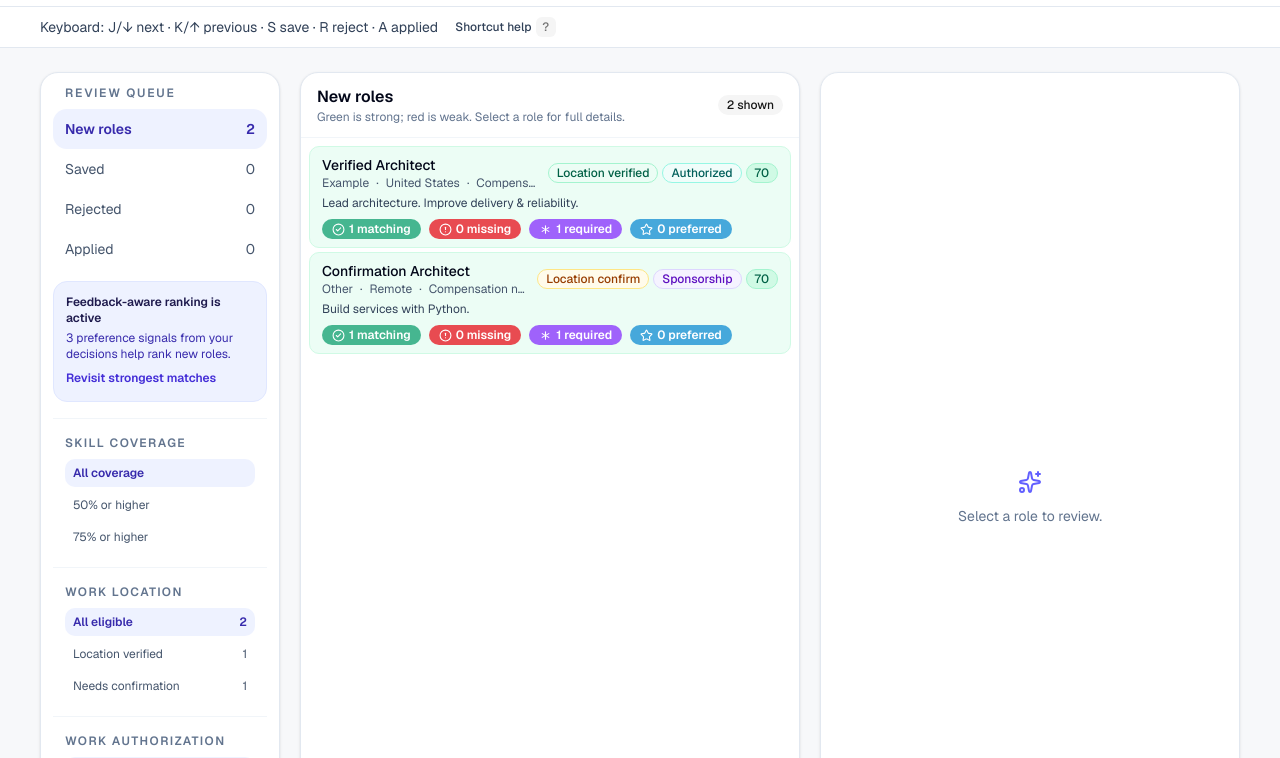
Test: review queue interactions › keeps decision-note drafts with their role and returns to feedback-ranked matches
Click the button "Verified Architect" at [550, 197], box [309,146,791,248]
(page scrolled)
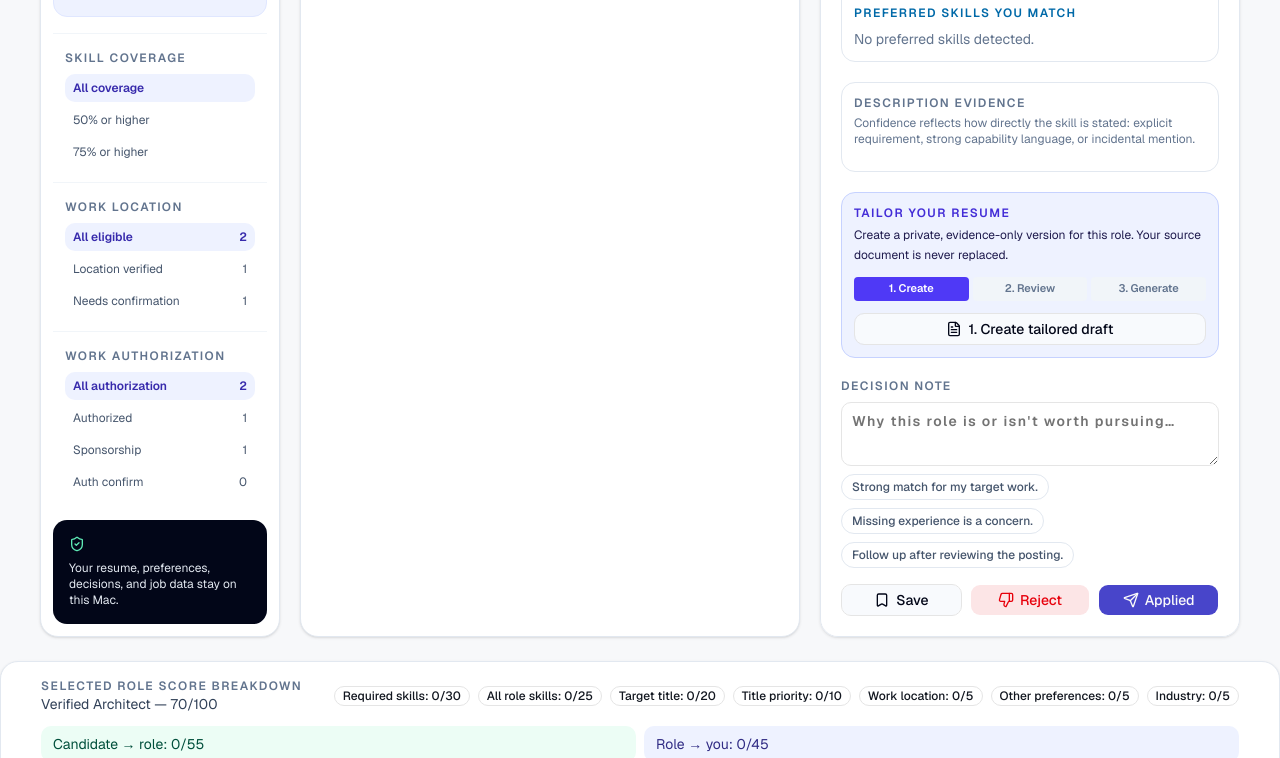
Type "Excellent platform fit." into the text box labelled "Decision note" at [1030, 434], box [841,402,1219,466]
(page scrolled)
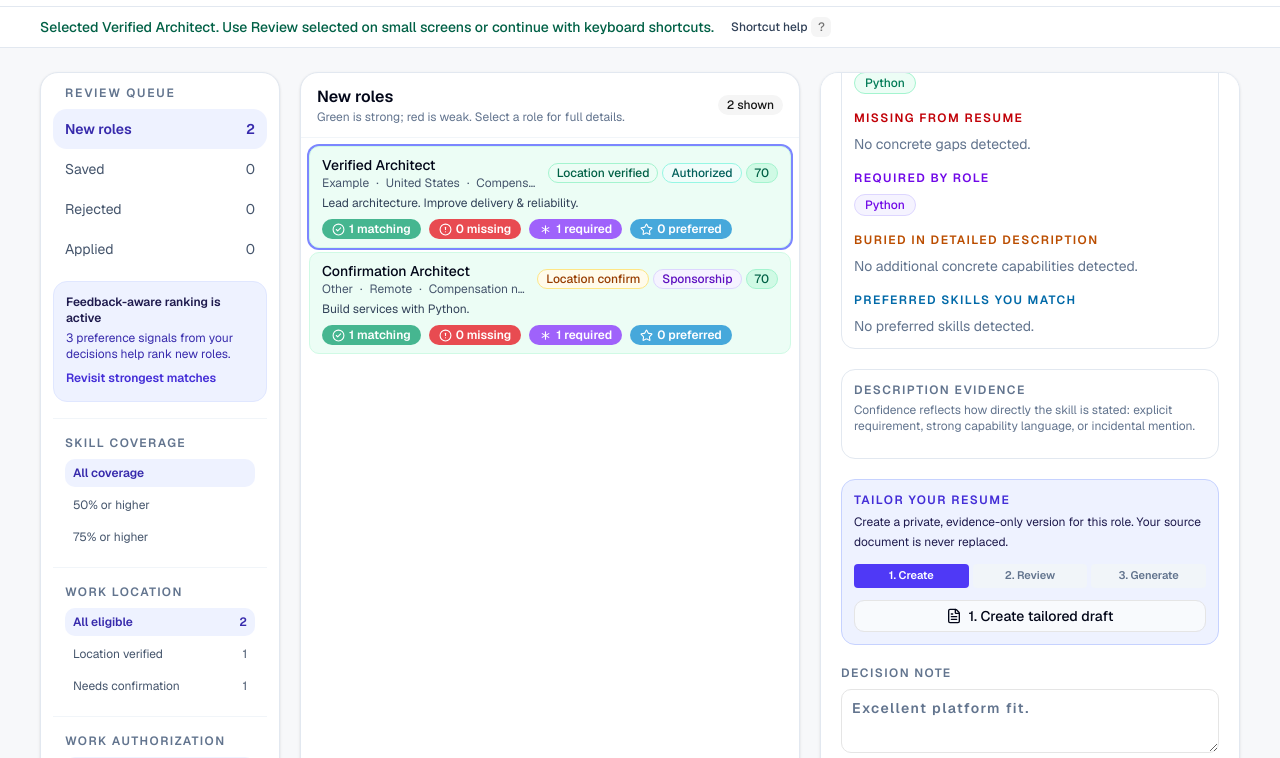
Click the button "Confirmation Architect" at [396, 271], box [309,252,791,354]
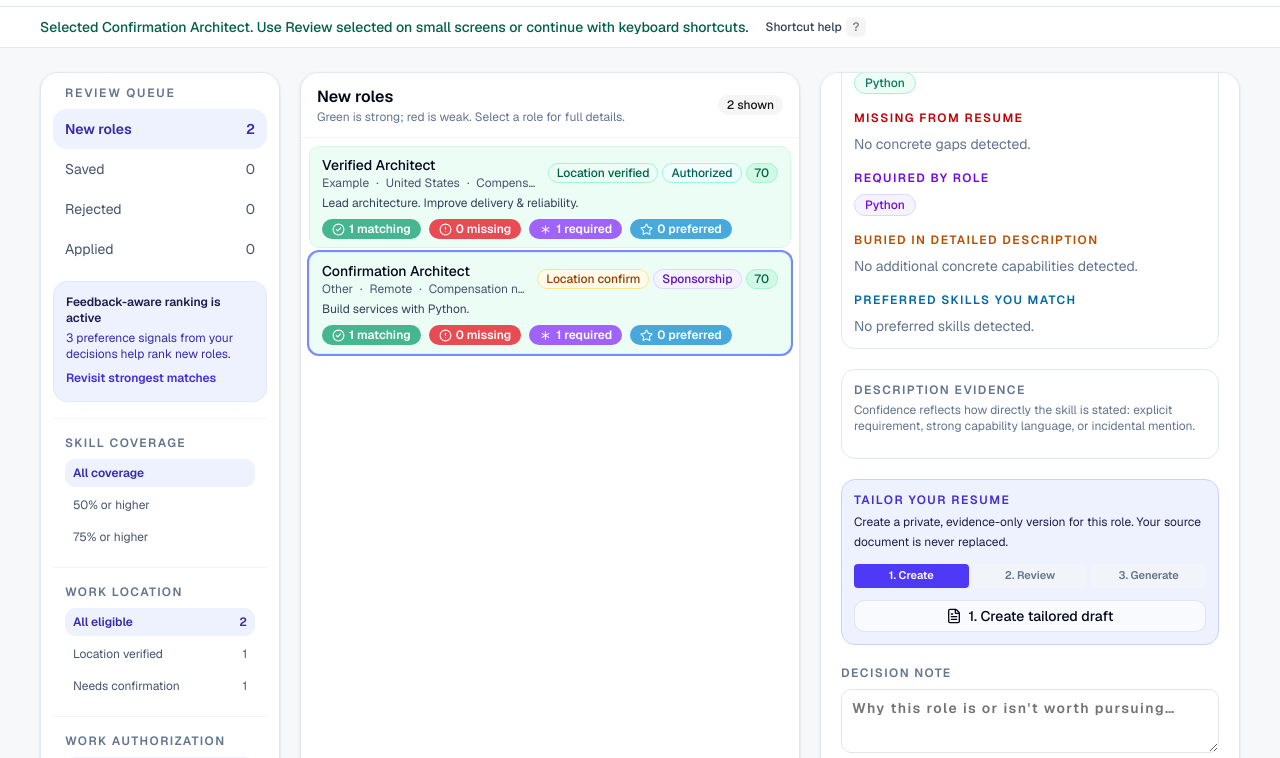
Check: the text box labelled "Decision note" is empty, box [841,689,1219,753]
Click the button "Verified Architect" at [550, 197], box [309,146,791,248]
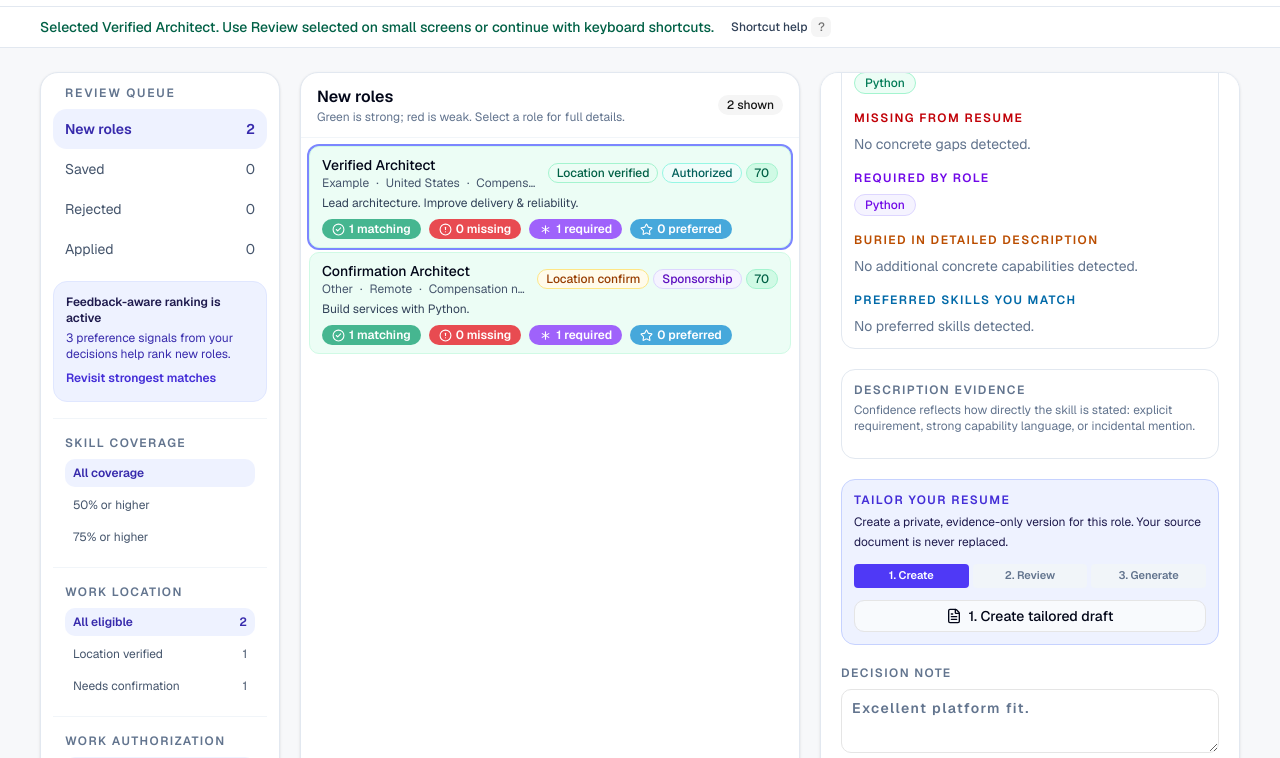
Click the button "Needs confirmation 1" at [160, 686], box [65,672,255,700]
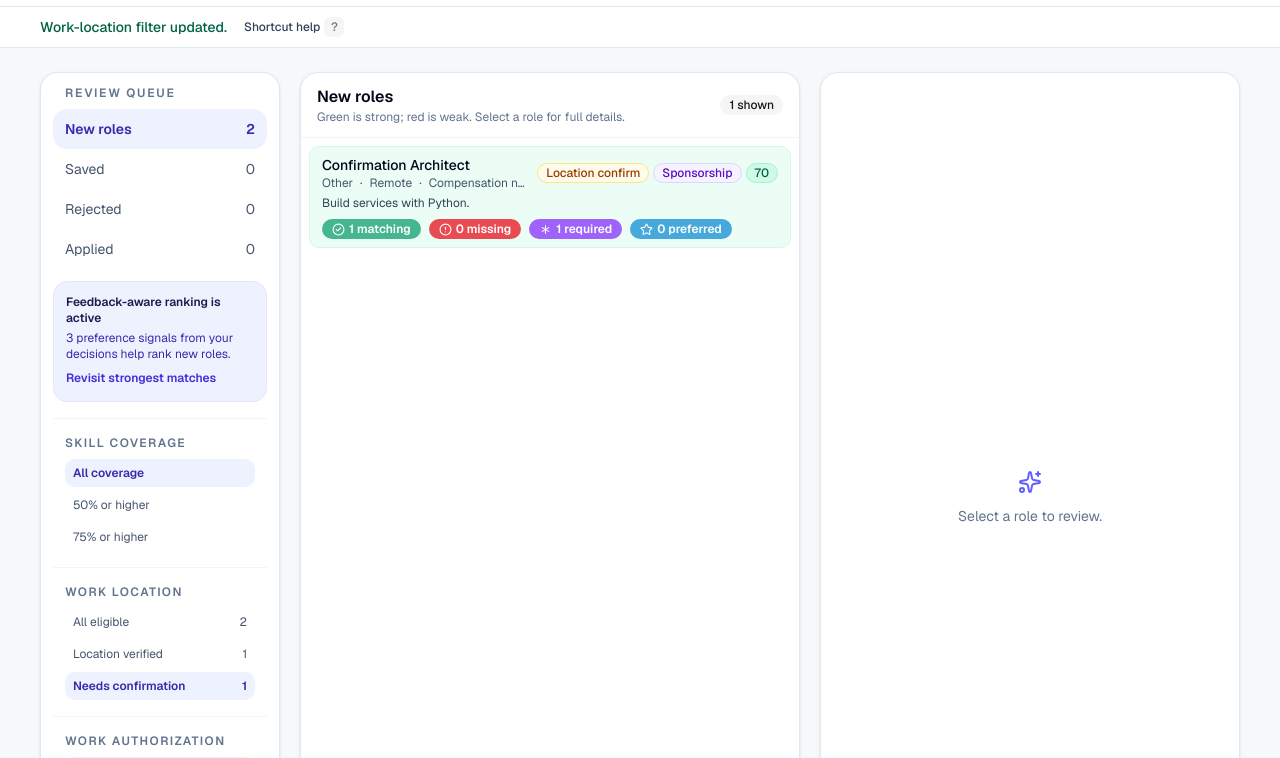
Click the button "Revisit strongest matches" at [141, 378], box [66,370,216,386]
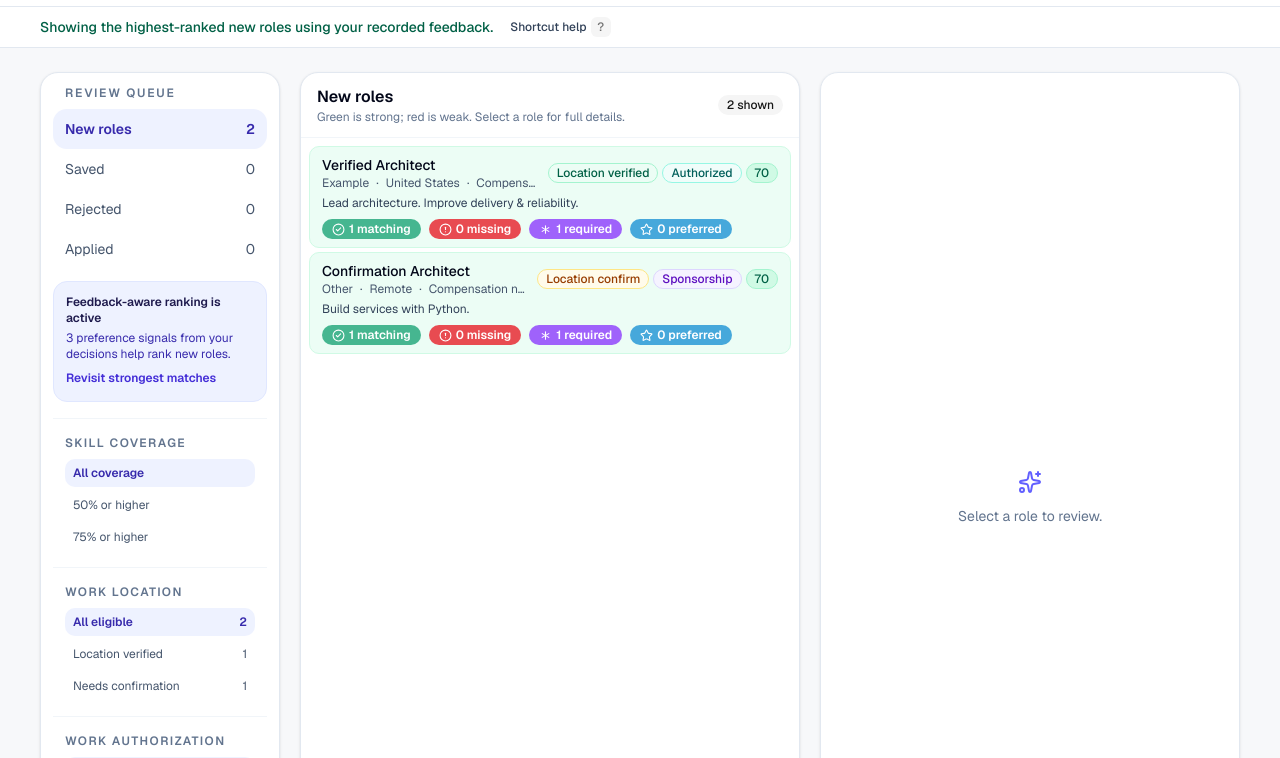
Check: the button "Confirmation Architect" is shown, box [309,252,791,354]
Check: the text "Showing the highest-ranked new roles using your recorded feedback." is shown 2 times
Check: the button "Verified Architect" is shown, box [309,146,791,248]
